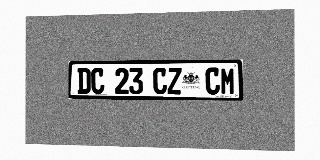2: (115, 68, 129, 94)
3: (129, 68, 143, 94)
C: (205, 67, 220, 95), (153, 68, 167, 94), (91, 68, 104, 94)
D: (77, 68, 91, 94)
M: (220, 67, 235, 95)
Z: (167, 68, 182, 94)
